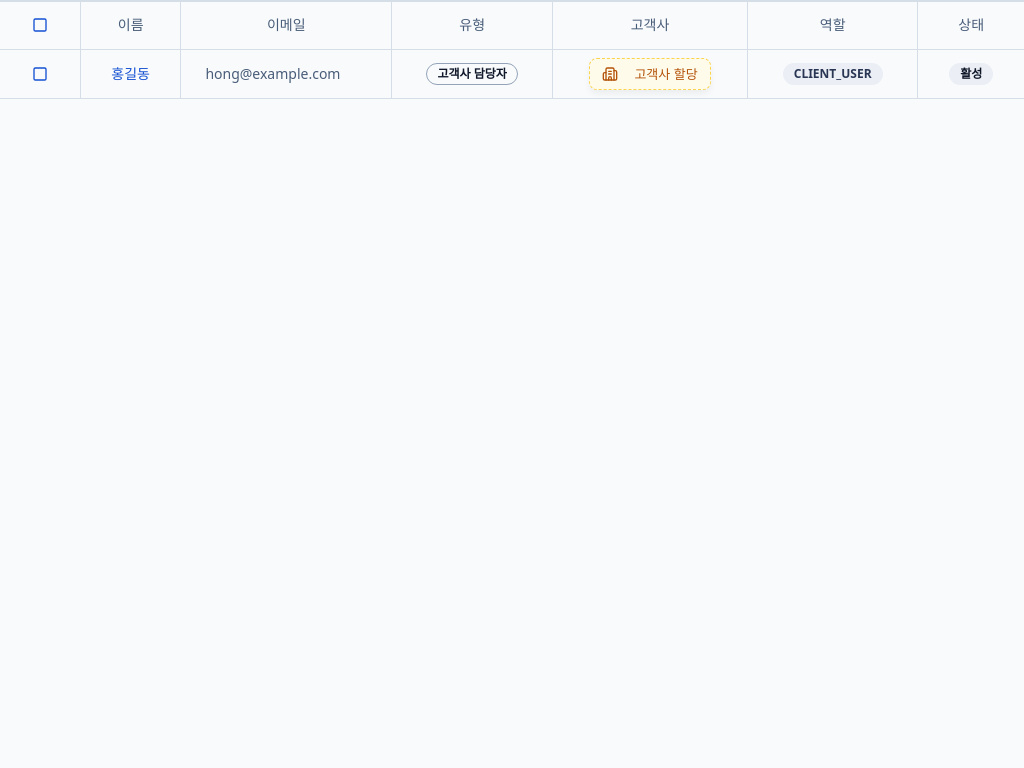
UserTable — 고객사 할당 드롭다운 › 확인 다이얼로그를 취소하면 닫히고 강제 요청도 나가지 않는다
Click the button "고객사 할당".
click(650, 74)  # box x1=589 y1=58 x2=711 y2=90
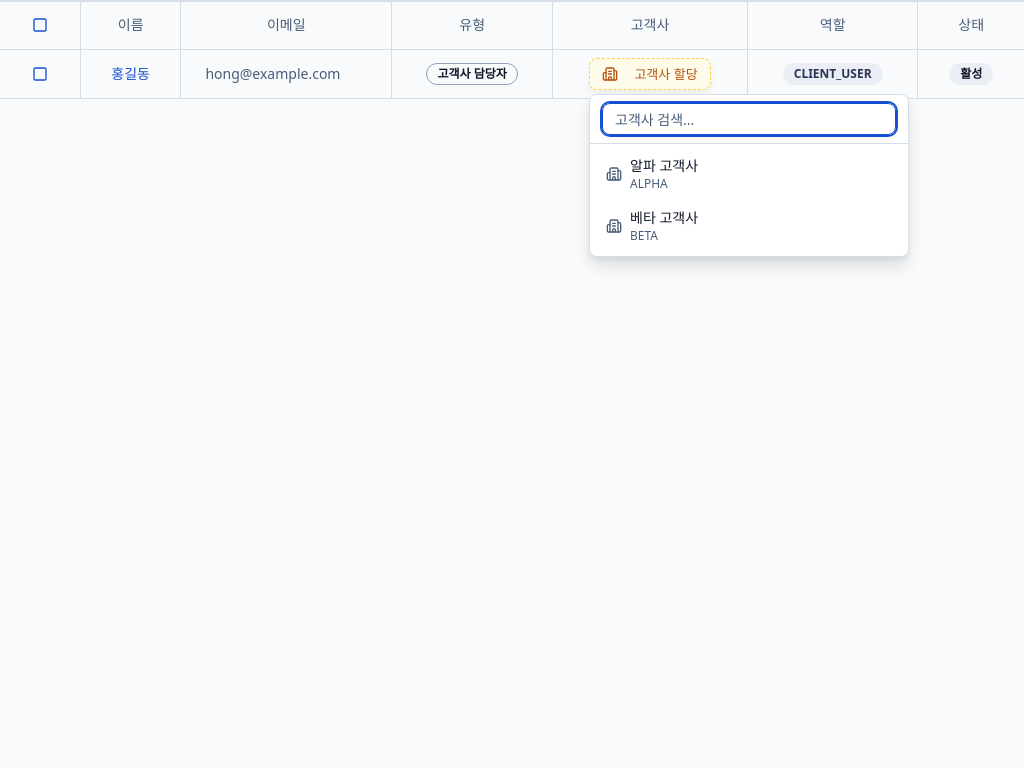
Click the text "알파 고객사".
click(664, 166)  # box x1=630 y1=156 x2=698 y2=175
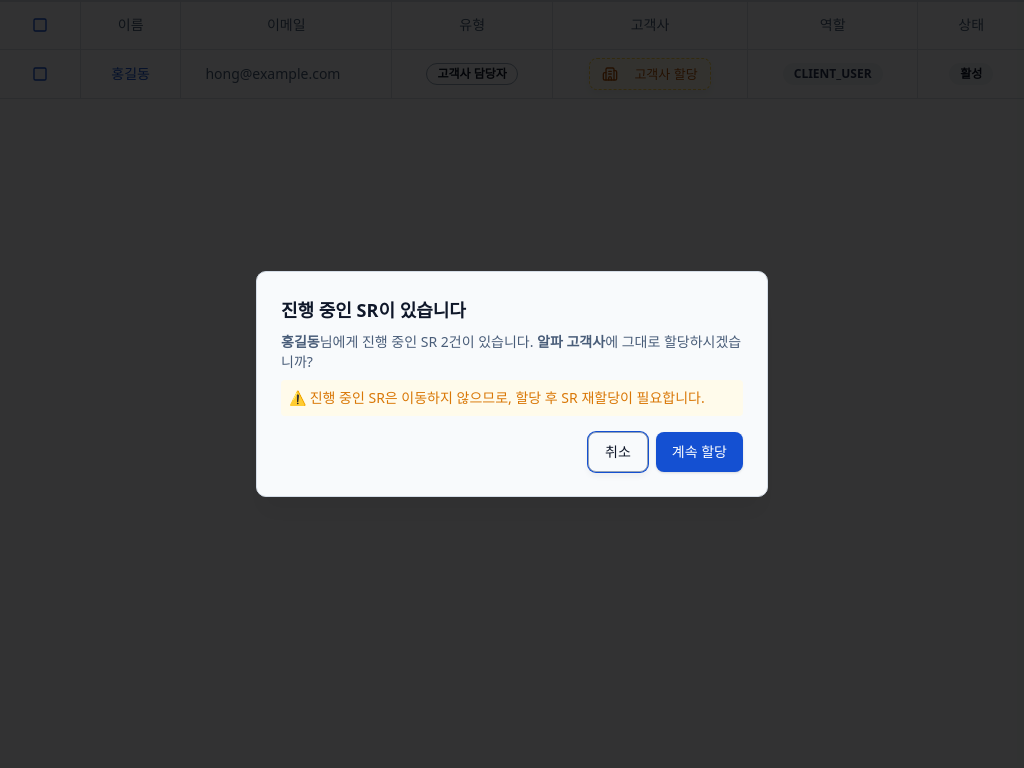
Result: the heading "진행 중인 SR이 있습니다" is shown at x1=281 y1=298 x2=466 y2=322
Click the button "취소".
click(618, 452)  # box x1=588 y1=432 x2=648 y2=472
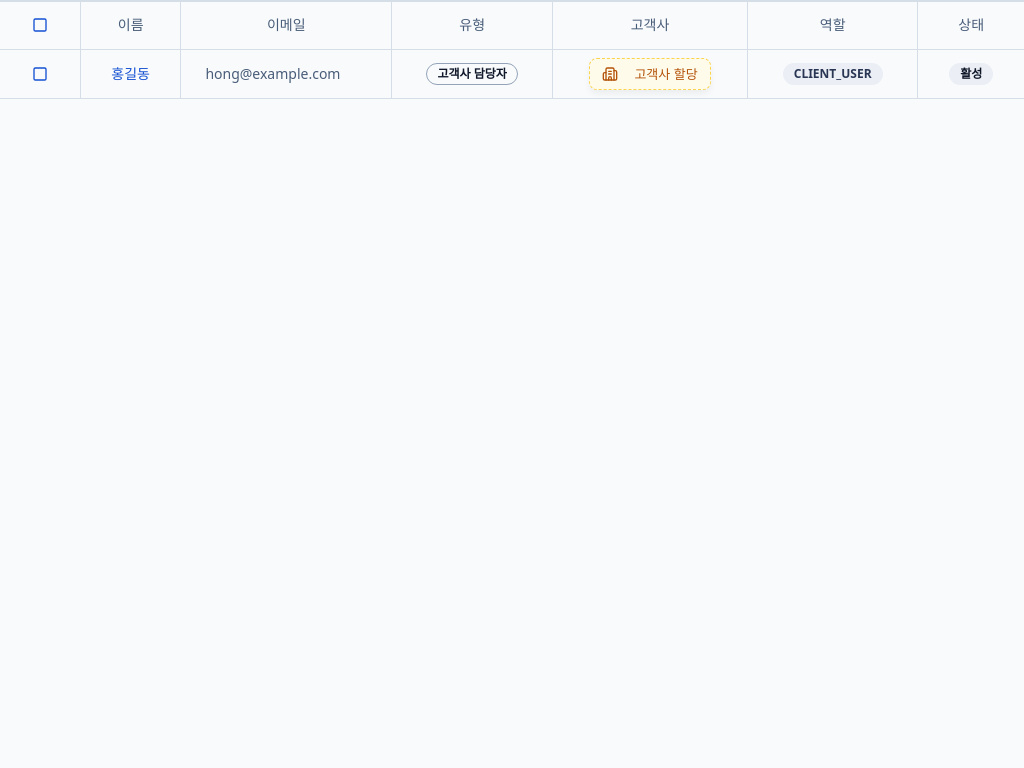
Result: the heading "진행 중인 SR이 있습니다" is gone
